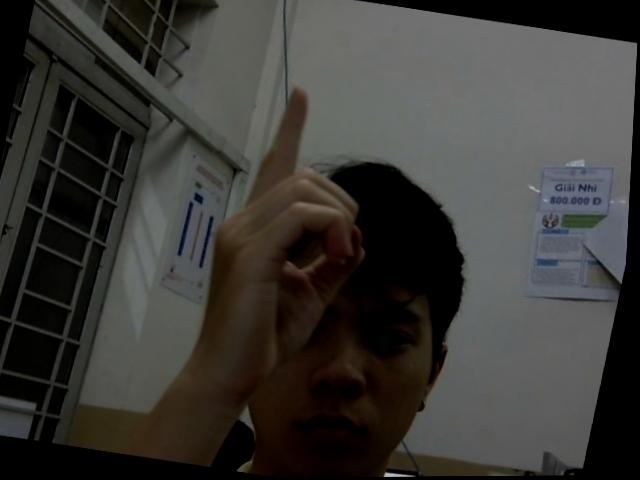D: (184, 78, 398, 407)
